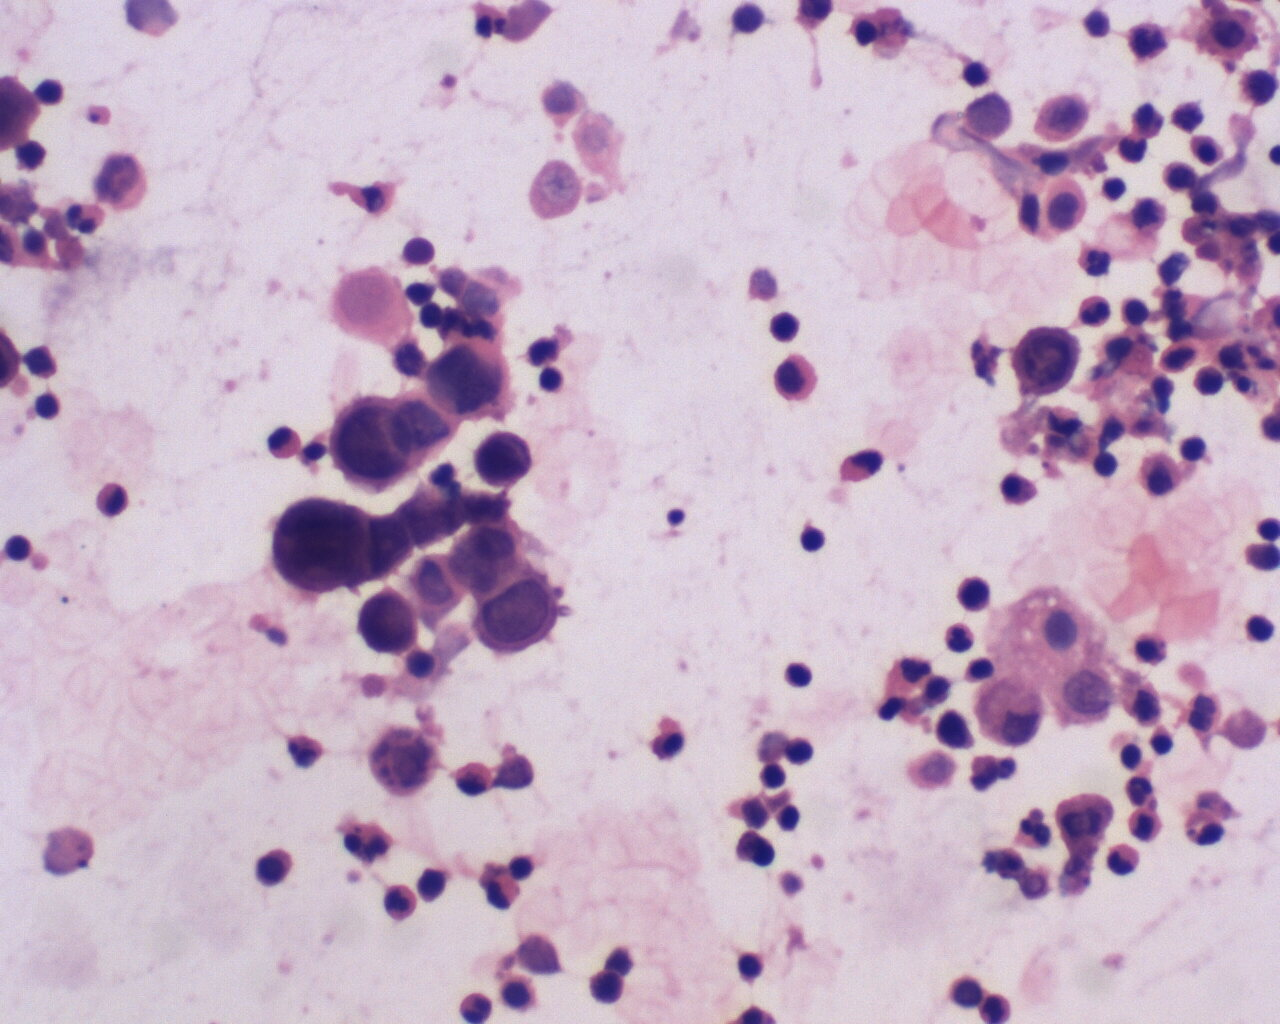ab: (267, 495, 371, 597), (327, 390, 424, 494), (425, 338, 518, 426), (439, 520, 531, 602), (471, 576, 563, 654), (1010, 319, 1087, 397), (353, 586, 426, 664), (476, 426, 543, 491), (942, 623, 977, 654)
lymph: (1238, 605, 1280, 649), (777, 657, 818, 695), (1087, 447, 1126, 483), (798, 517, 832, 556), (960, 54, 995, 89), (32, 389, 65, 425), (1097, 174, 1132, 207)
meso: (1193, 5, 1262, 62)
neutro: (335, 812, 404, 866), (376, 879, 419, 926), (63, 197, 109, 238), (1071, 288, 1113, 330), (456, 990, 501, 1024), (1104, 840, 1140, 878)
